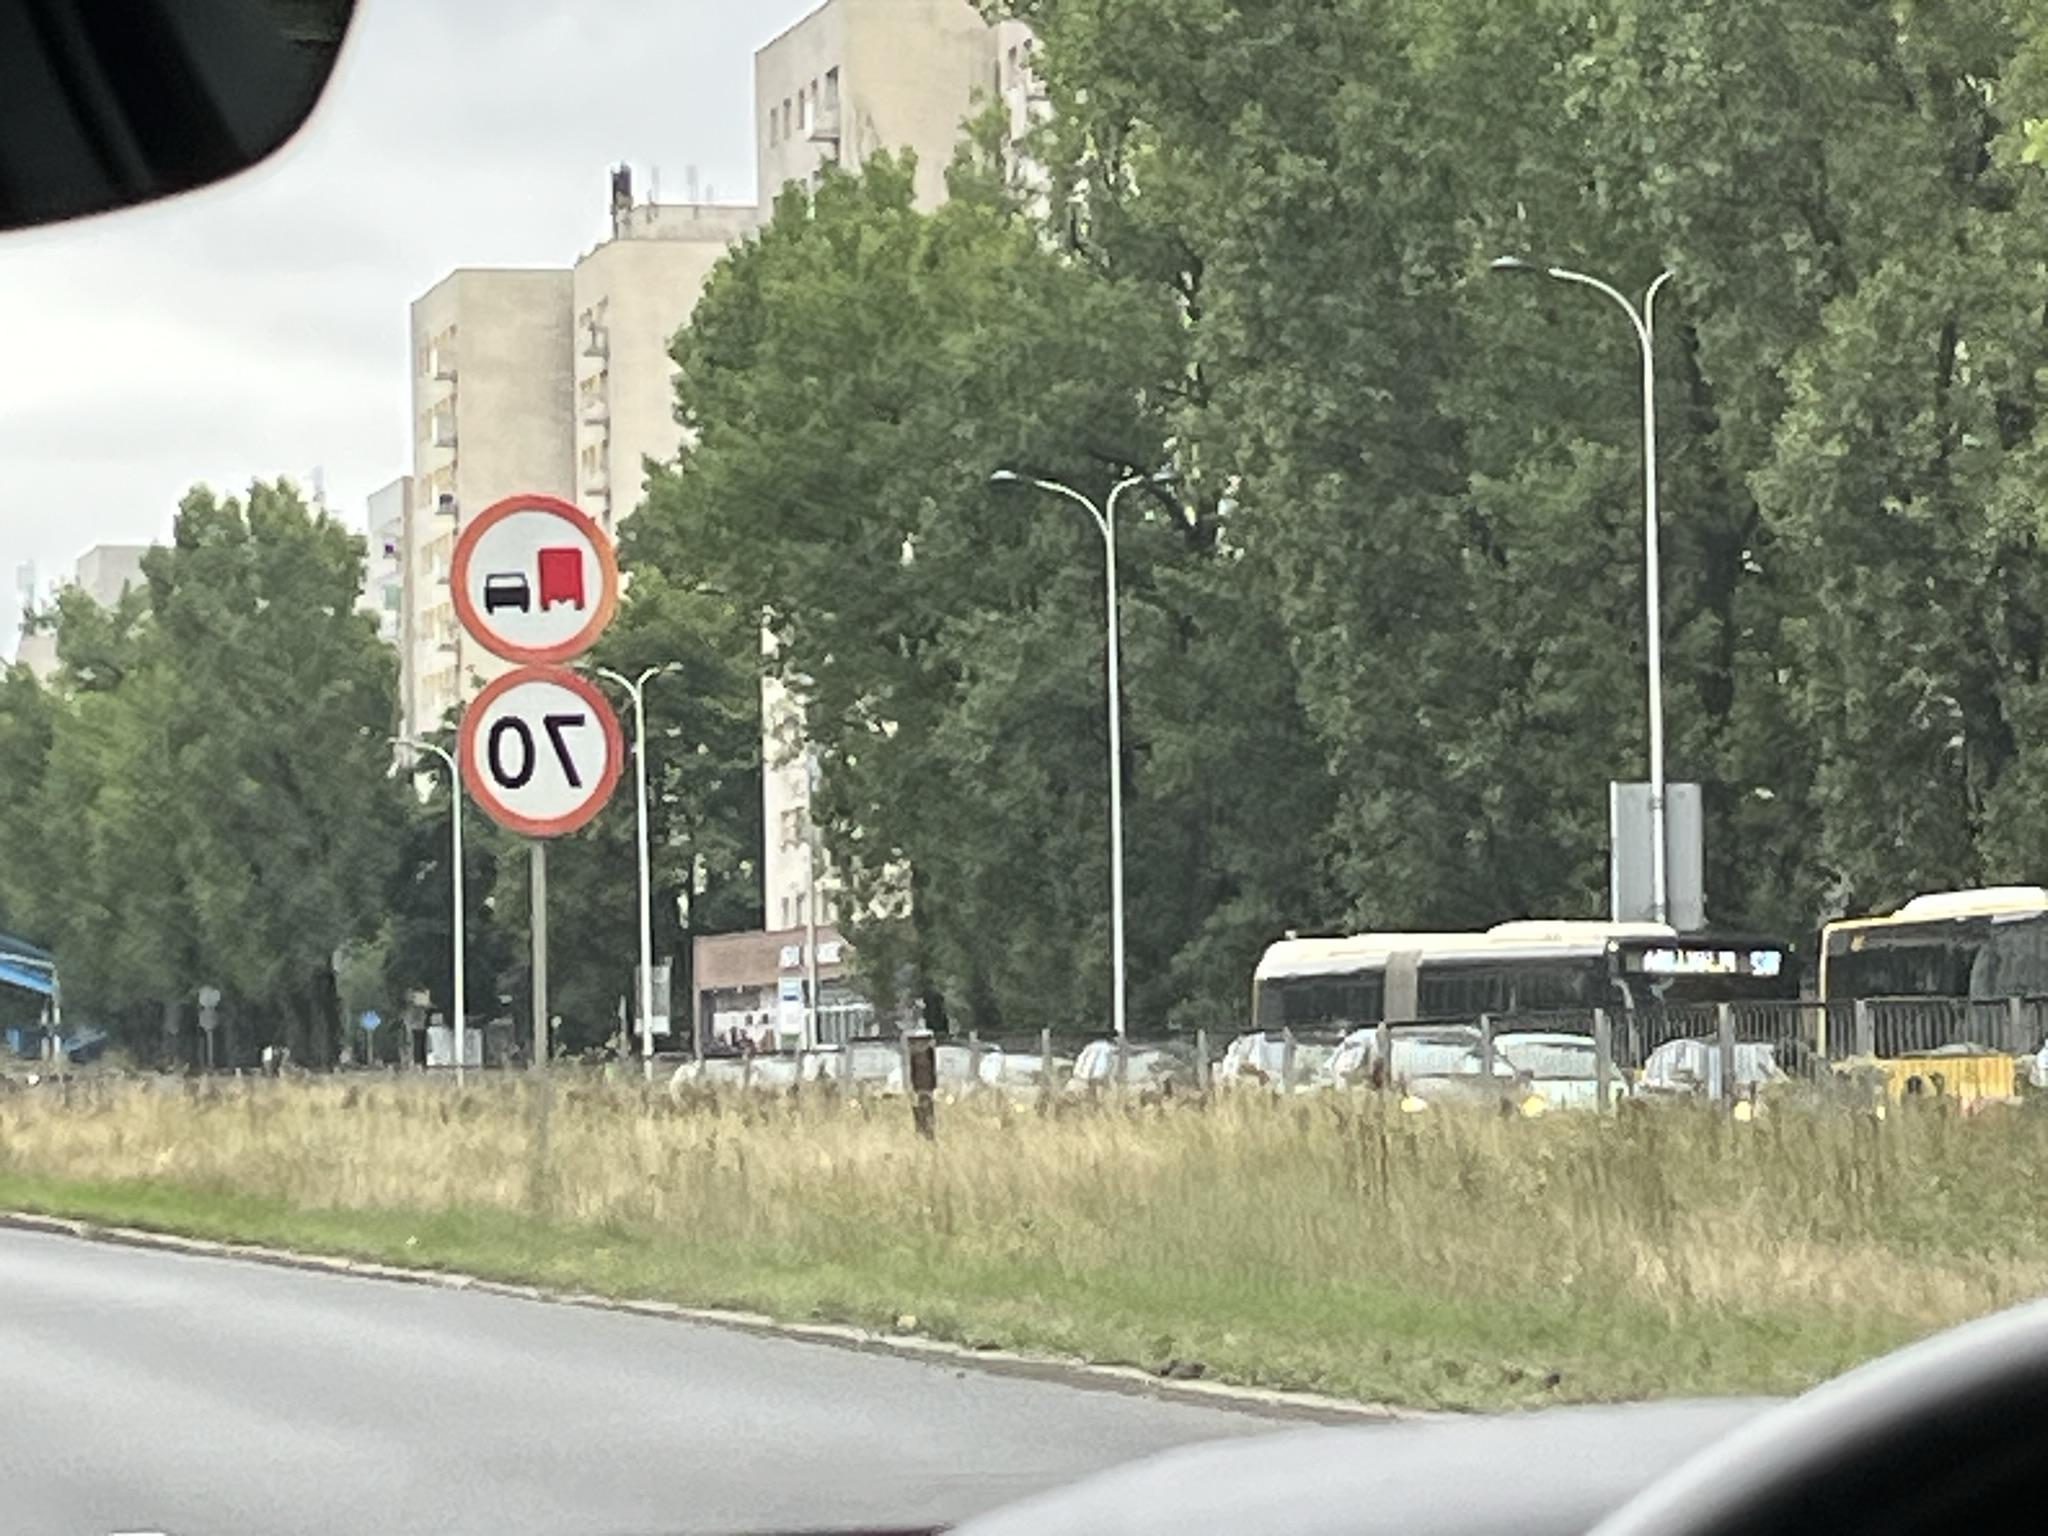prohibitory: (448, 492, 619, 666), (461, 663, 624, 841)
